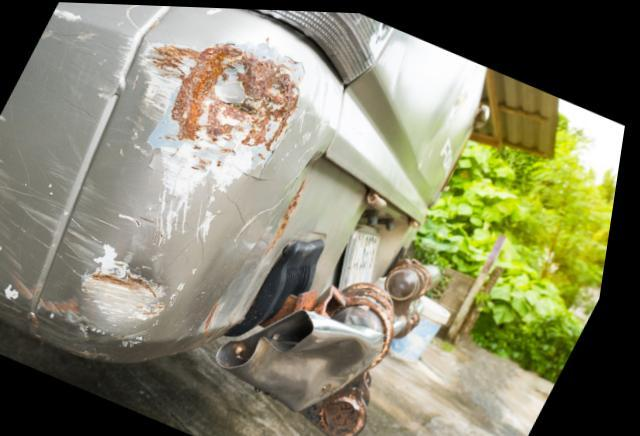dent: (89, 261, 172, 325)
scratch: (70, 36, 314, 272), (0, 6, 141, 331), (44, 294, 114, 361)
